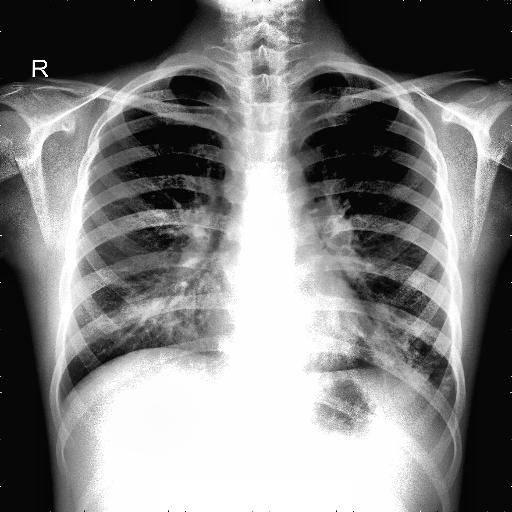6- Infiltration: (382, 315, 458, 384), (398, 322, 456, 392), (124, 277, 188, 325)
7- Lung Opacity: (377, 340, 458, 431), (152, 289, 210, 348)
